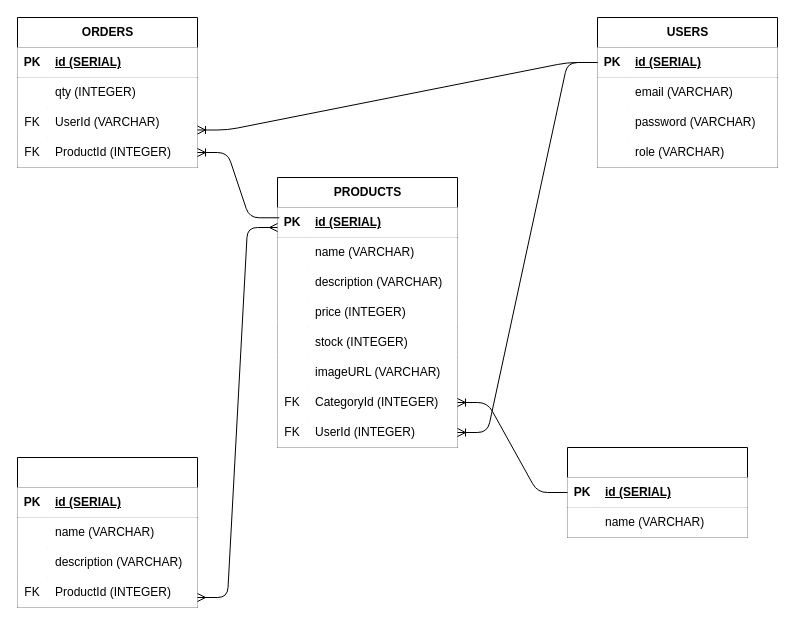
This 795x625 diagram has some shape labels left out. The shapes that lost their labels are listed below. From the top down, each one's box as (x1, y1, x2, y2) in pixels, then its label:
(566, 446, 748, 538): CATEGORIES
(16, 456, 198, 608): DETAILS
